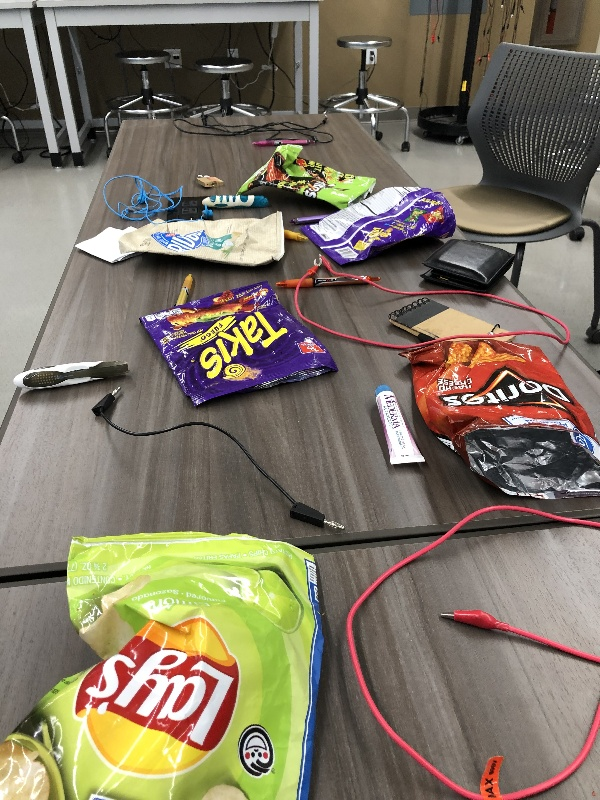bag: (1, 525, 334, 800), (391, 337, 600, 502), (129, 279, 342, 409), (296, 182, 460, 270), (119, 208, 289, 268), (231, 144, 379, 210)
